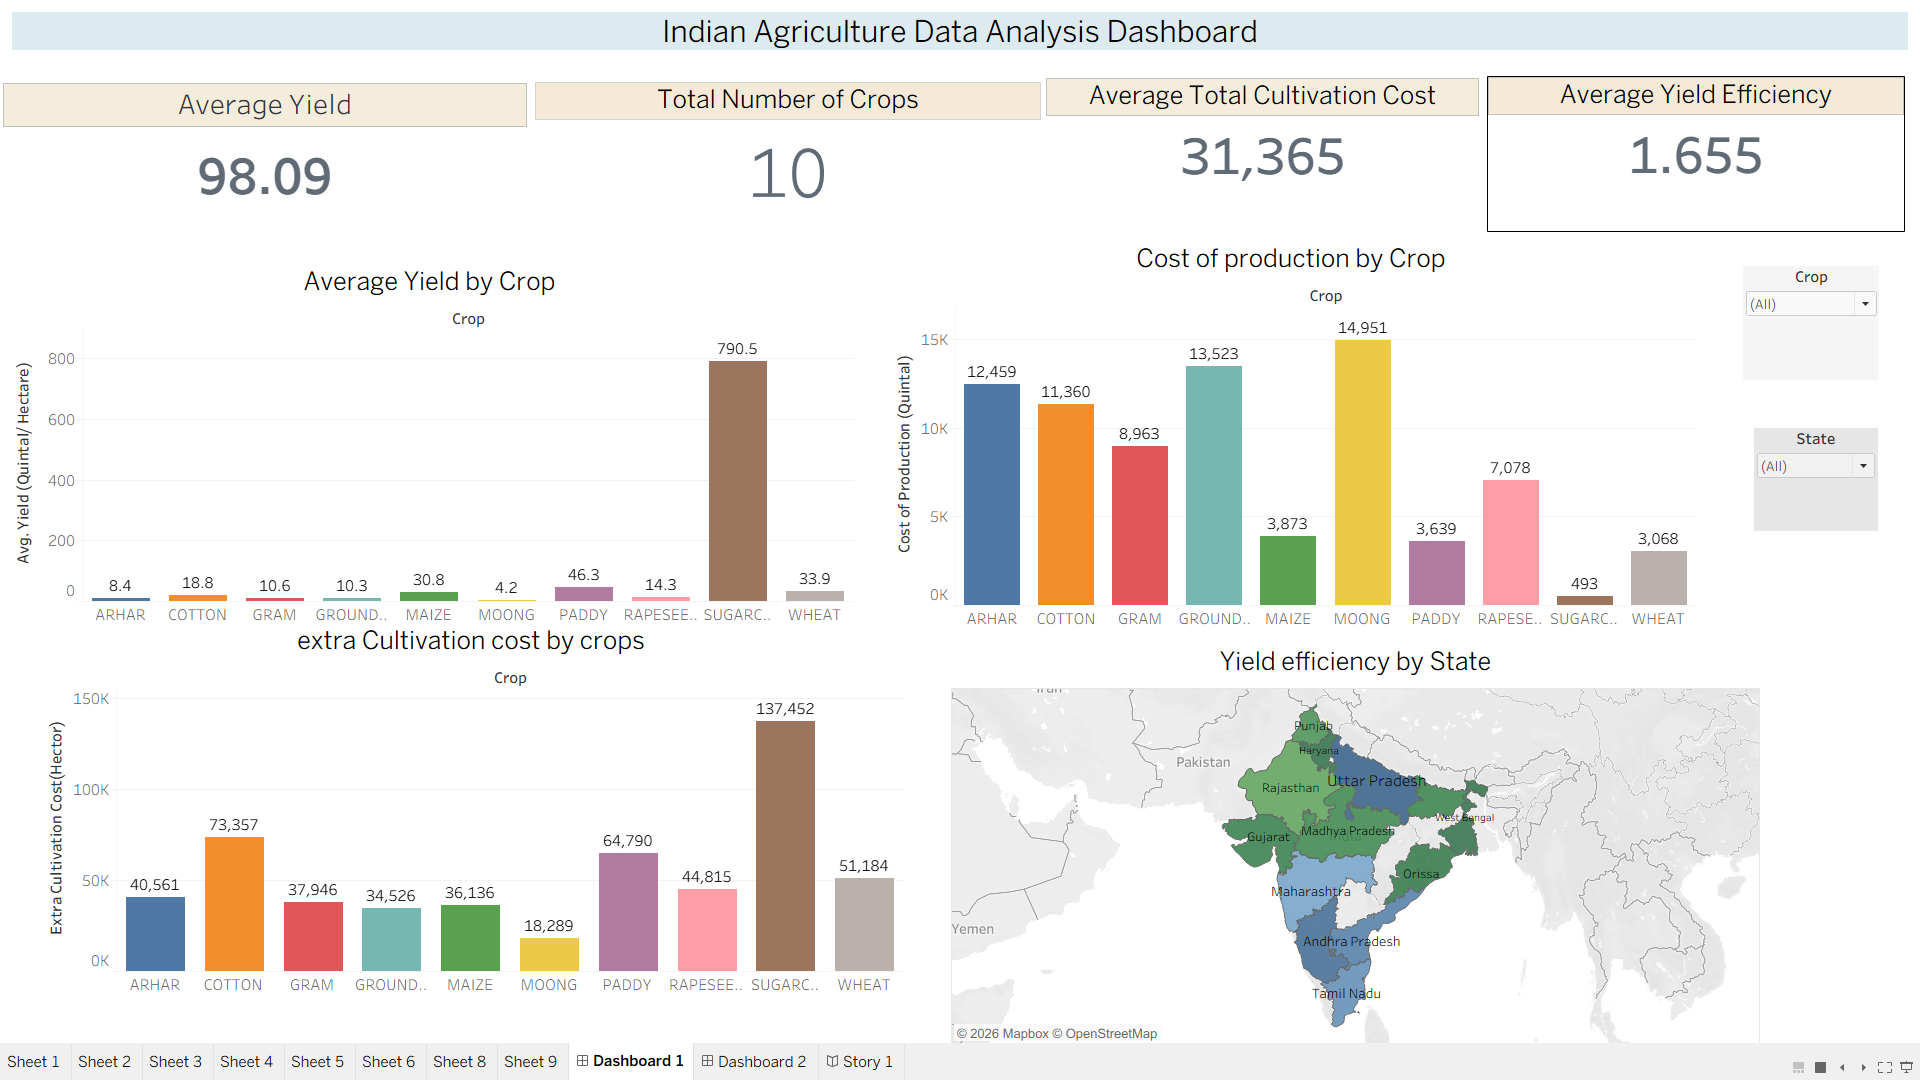

The page's visual inventory and layout, read from the dashboard file:
{"tool":"tableau","page":{"name":"Dashboard 1","canvas":[1000,1000],"units":"permille","ordinal":0},"visuals":[{"type":"title","box":[4.8,9.4,990.3,54.1]},{"type":"worksheet","title":"Sheet 3","mark":"Automatic","box":[774.3,72.9,217.9,149.2]},{"type":"worksheet","title":"Sheet 2","mark":"Automatic","box":[545,75.2,225.7,158.6]},{"type":"worksheet","title":"Sheet 4","mark":"Automatic","box":[278.8,78.7,263.7,168]},{"type":"worksheet","title":"Sheet 1","mark":"Automatic","box":[1.8,79.9,272.8,168]},{"type":"worksheet","title":"Sheet 6","mark":"Automatic","rows":["Cost of Production (Quintal)"],"cols":["Crop"],"box":[461.7,228,421.9,390.1]},{"type":"worksheet","title":"Sheet 5","mark":"Automatic","rows":["Yield (Quintal/ Hectare)"],"cols":["Crop"],"box":[2.4,250.3,442.4,364.3]},{"type":"filter","title":"Sheet 5","param":"[federated.0f91u5k0mcc3om15cgkbn1qi5rqg].[none:Crop:nk]","box":[907.7,255,71.2,109.3]},{"type":"filter","title":"Sheet 9","param":"[federated.0f91u5k0mcc3om15cgkbn1qi5rqg].[none:State:nk]","box":[913.7,410.1,64.6,98.7]},{"type":"worksheet","title":"Sheet 8","mark":"Bar","rows":["Extra Cultivation Cost(Hector)"],"cols":["Crop"],"box":[19.9,594.6,450.8,374.9]},{"type":"worksheet","title":"Sheet 9","mark":"Multipolygon","box":[495.5,614.6,421.2,386.6]}]}

Visuals, with their boxes on the dashboard's canvas, which has no fixed pixel size, in thousandths of its width and height (x1, y1, x2, y2). These are canvas units, not pixel positions in the 1920x1080 screenshot, which may show the page scaled, cropped or inside an application window:
title: Rect(5, 9, 995, 64)
"Sheet 3" worksheet: Rect(774, 73, 992, 222)
"Sheet 2" worksheet: Rect(545, 75, 771, 234)
"Sheet 4" worksheet: Rect(279, 79, 542, 247)
"Sheet 1" worksheet: Rect(2, 80, 275, 248)
"Sheet 6" worksheet: Rect(462, 228, 884, 618)
"Sheet 5" worksheet: Rect(2, 250, 445, 615)
"Sheet 5" filter: Rect(908, 255, 979, 364)
"Sheet 9" filter: Rect(914, 410, 978, 509)
"Sheet 8" worksheet (Bar marks): Rect(20, 595, 471, 970)
"Sheet 9" worksheet (Multipolygon marks): Rect(496, 615, 917, 1001)
